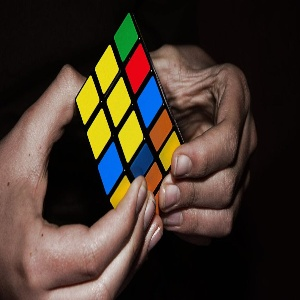cube: (75, 13, 184, 215)
